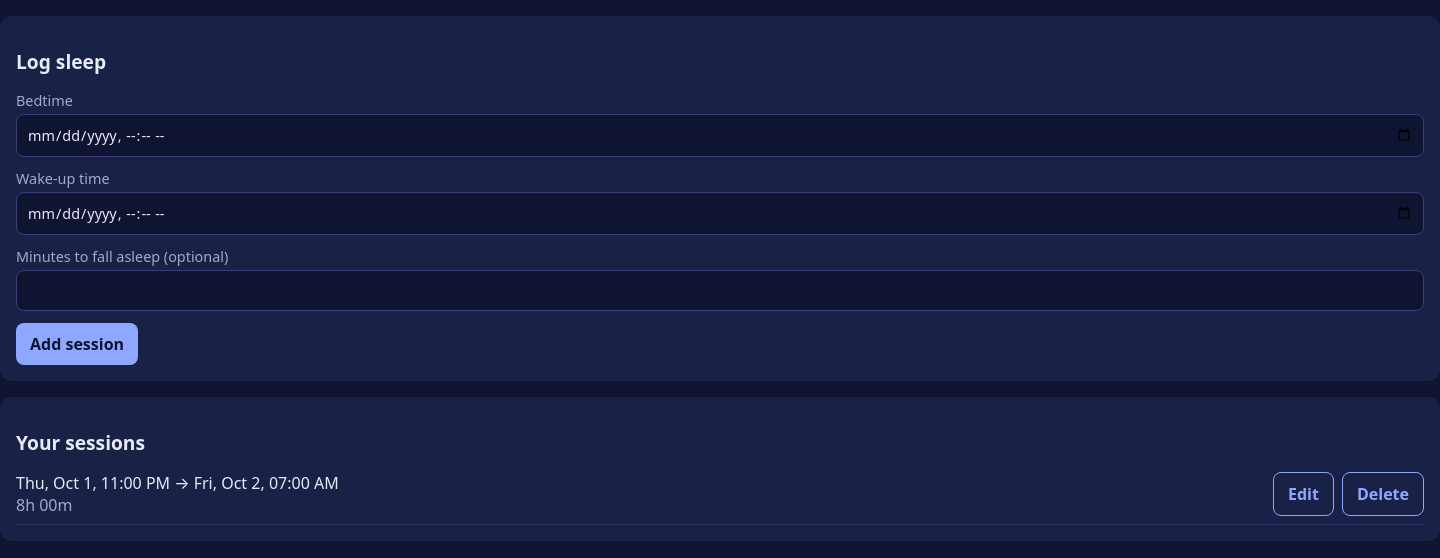
it: SleepSessions › deletes a session
Click the button "Delete": (1383,494) [1342,472,1424,516]
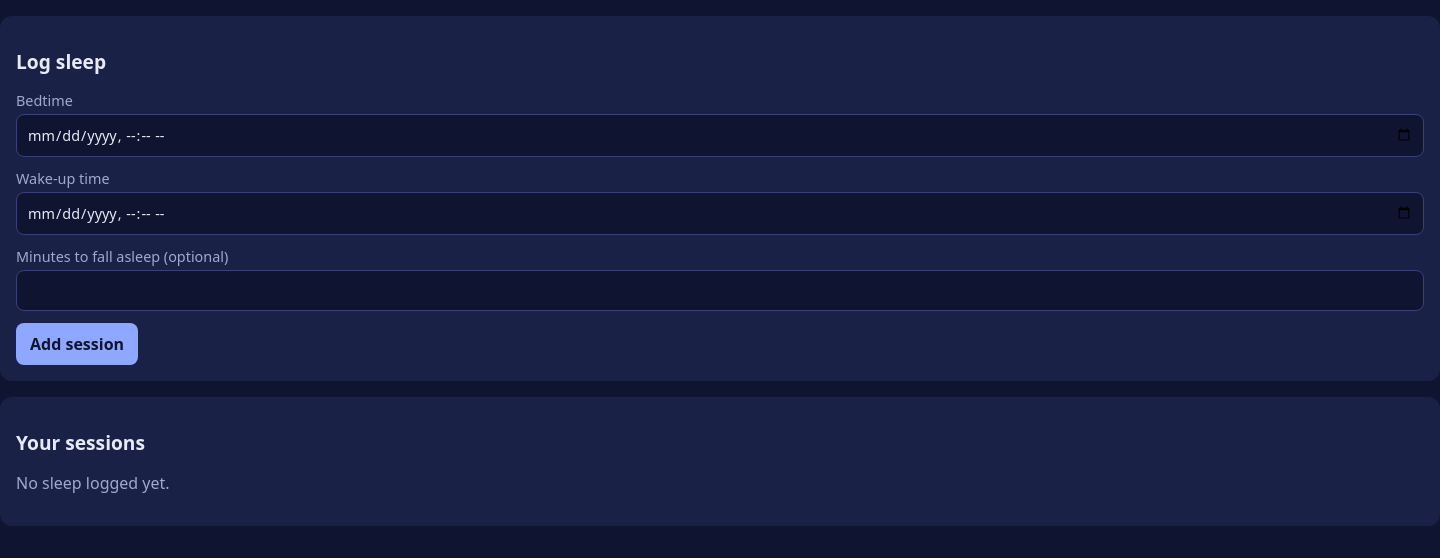
Expected: the text "No sleep logged yet." is shown, [16,472,170,494]
